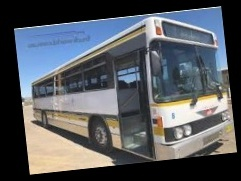bus: (26, 10, 233, 170)
